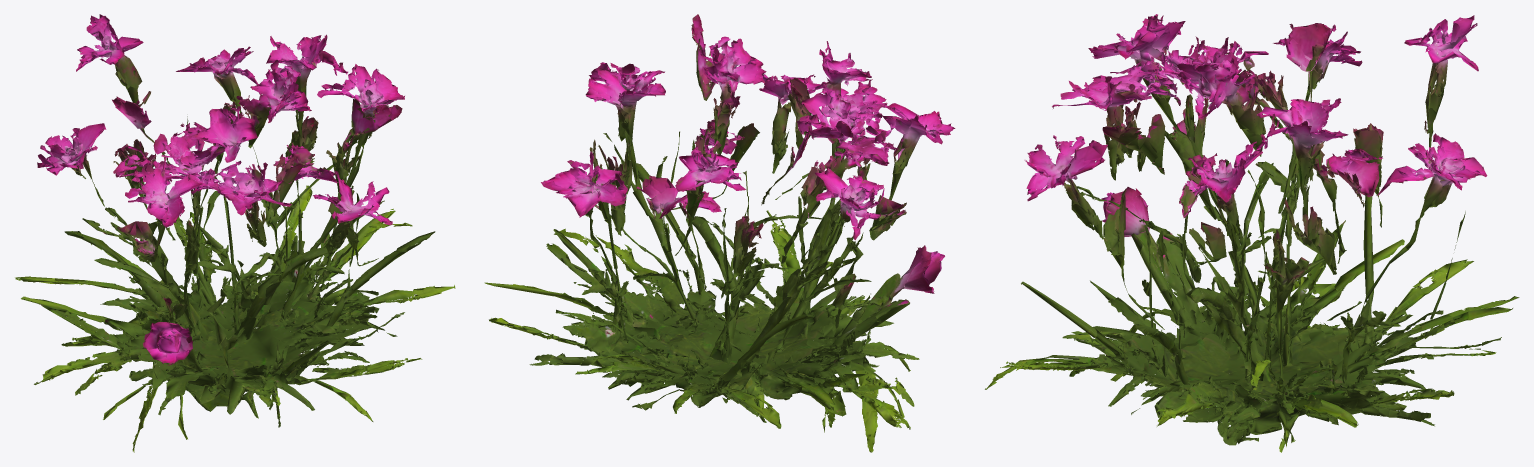
The model's file is planta3.glb.
The picture shows the model from 3 angles, left to right: view 1: azimuth 30°, elevation 25°; view 2: azimuth 150°, elevation 25°; view 3: azimuth 270°, elevation 25°; orthographic projection. The views are drawn at different scales.
Visible parts, largest first — view 1: tripo_node_7a3cdd52-c1b5-4bbc-b79e-7e118ddb9956; view 2: tripo_node_7a3cdd52-c1b5-4bbc-b79e-7e118ddb9956; view 3: tripo_node_7a3cdd52-c1b5-4bbc-b79e-7e118ddb9956.
Boxes of the visible parts, x1,y1,x2,y2 form: tripo_node_7a3cdd52-c1b5-4bbc-b79e-7e118ddb9956: [15, 14, 455, 452]; tripo_node_7a3cdd52-c1b5-4bbc-b79e-7e118ddb9956: [484, 14, 955, 452]; tripo_node_7a3cdd52-c1b5-4bbc-b79e-7e118ddb9956: [985, 14, 1519, 452].
Size of the model in its own units: 0.9877 by 0.8731 by 0.9953.
1 material, 1 textured.
